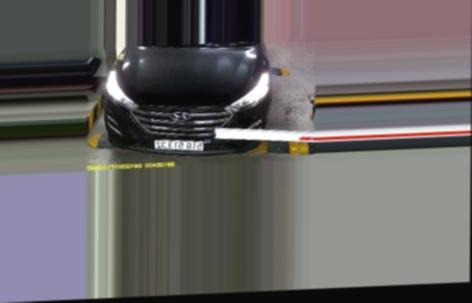License_Plate: (155, 137, 204, 153)
